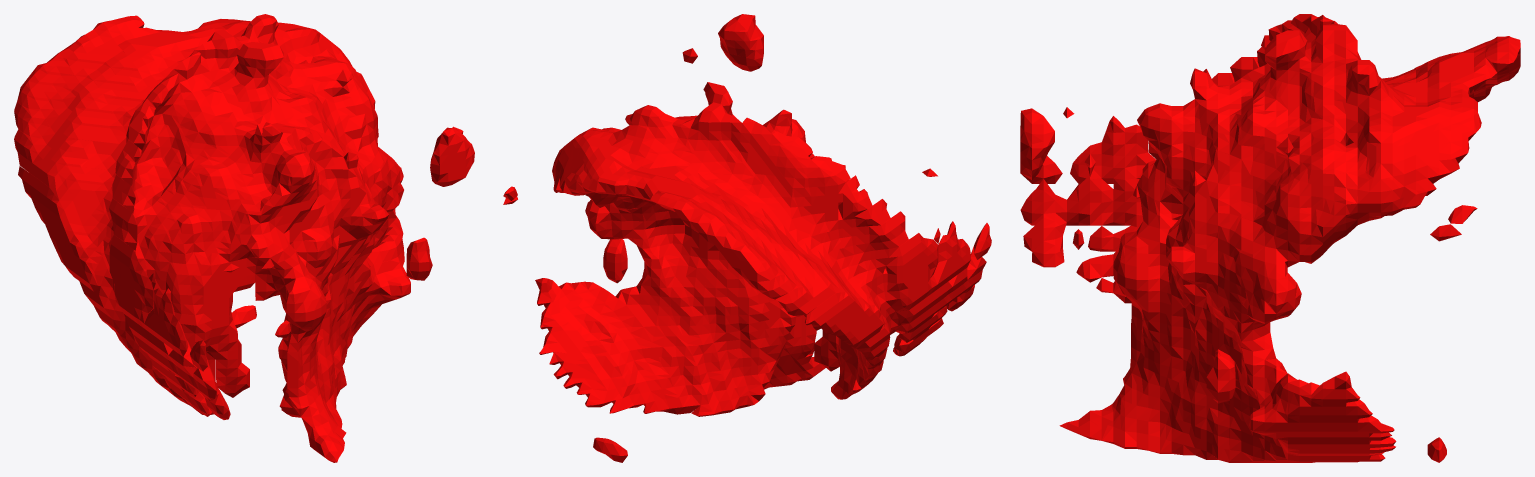
File: B939XXXX-1_valve_21.obj
3 views of the same model, side by side, from view 1: azimuth 30°, elevation 25°; view 2: azimuth 150°, elevation 25°; view 3: azimuth 270°, elevation 25° (orthographic). The views are drawn at different scales.
Parts seen in each view (by area): view 1: 21_valve; view 2: 21_valve; view 3: 21_valve.
Boxes of the visible parts, x1,y1,x2,y2 form: 21_valve: [14, 14, 474, 462]; 21_valve: [503, 14, 991, 462]; 21_valve: [1020, 14, 1520, 462].
Bounding box in the file's own units: 76.95 × 76.97 × 85.95.
